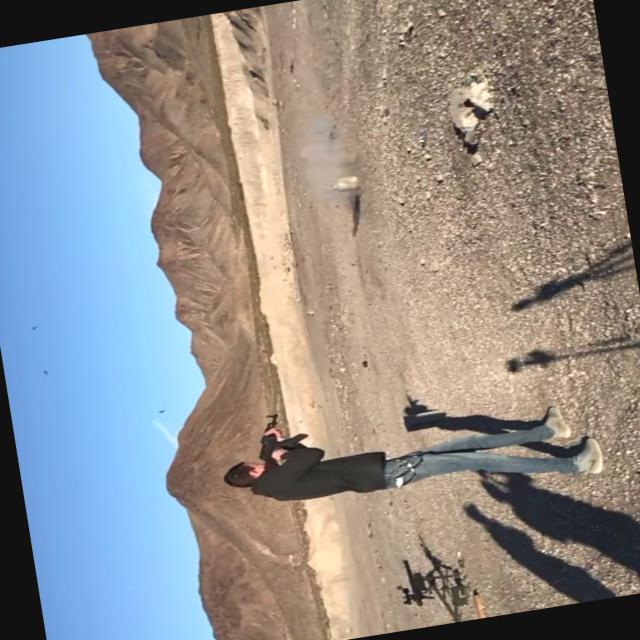long weapon: (365, 534, 464, 618), (244, 394, 324, 482)
